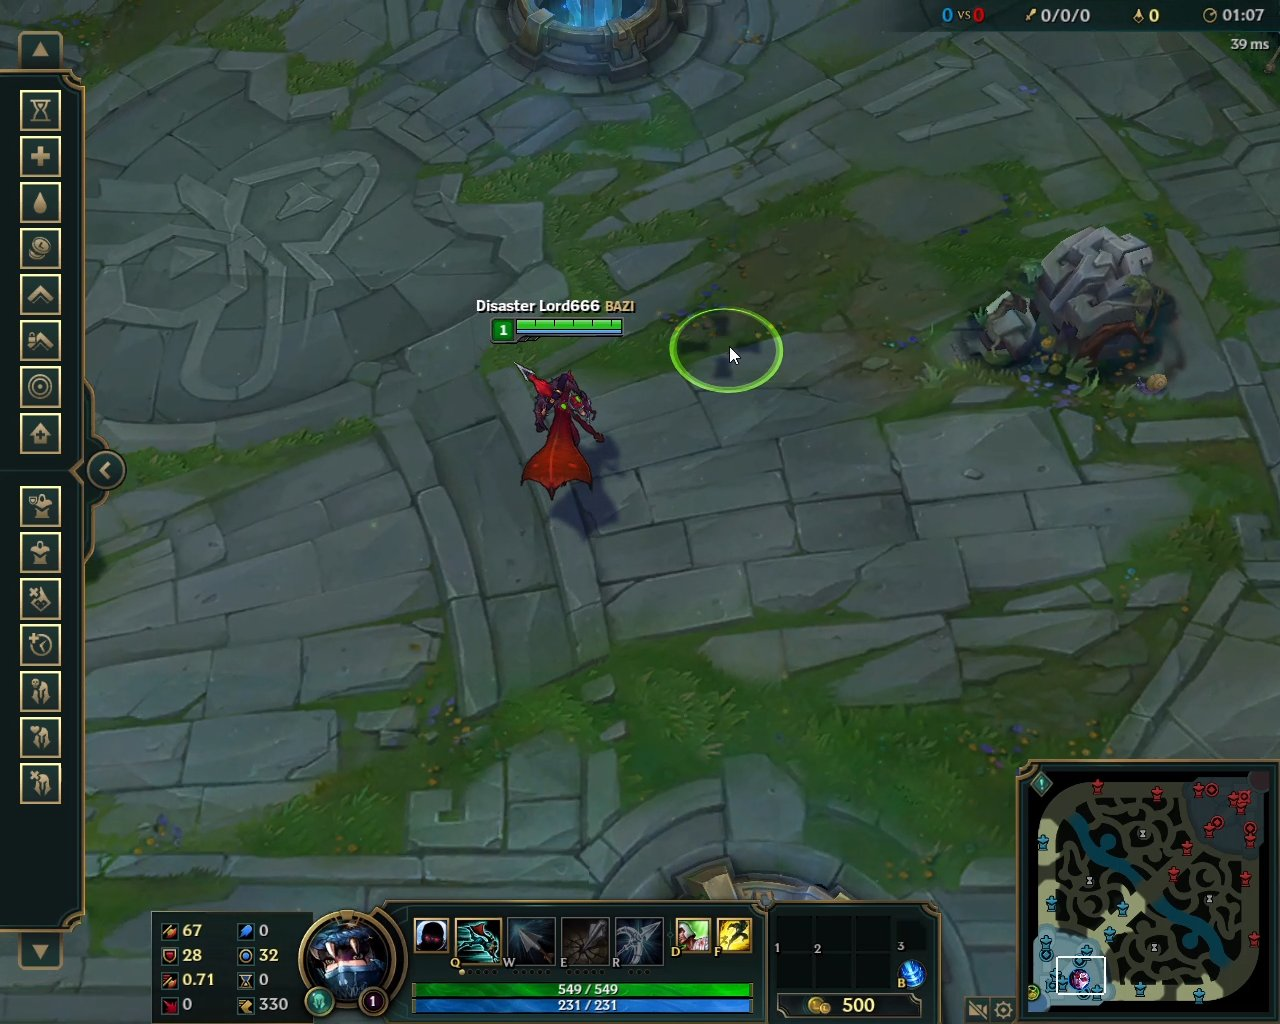Vayne: (512, 351, 614, 506)
